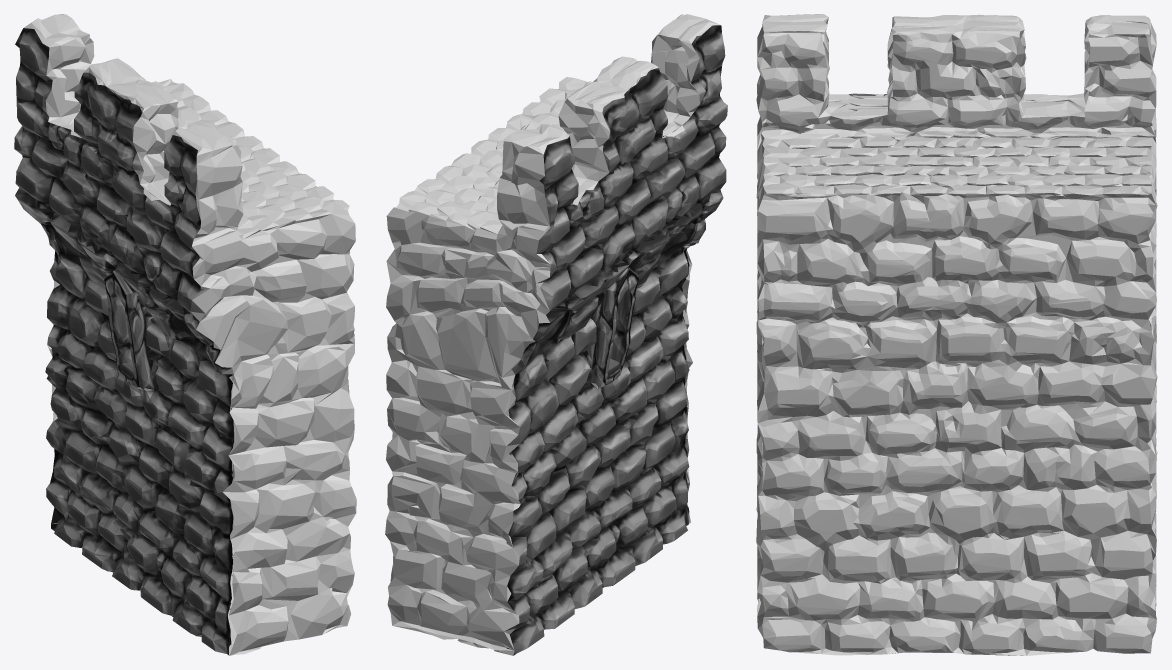
Rendered from Wall2.2.fbx.
The picture shows the model from 3 angles, left to right: view 1: azimuth 30°, elevation 25°; view 2: azimuth 150°, elevation 25°; view 3: azimuth 270°, elevation 25°; orthographic projection. The views are drawn at different scales.
Visible parts, largest first — view 1: FortressWallLow.001; view 2: FortressWallLow.001; view 3: FortressWallLow.001.
Boxes of the visible parts, x1,y1,x2,y2 form: FortressWallLow.001: (14, 14, 356, 655); FortressWallLow.001: (385, 14, 727, 655); FortressWallLow.001: (756, 14, 1157, 655).
Bounding box in the file's own units: 372 × 1106 × 716.
